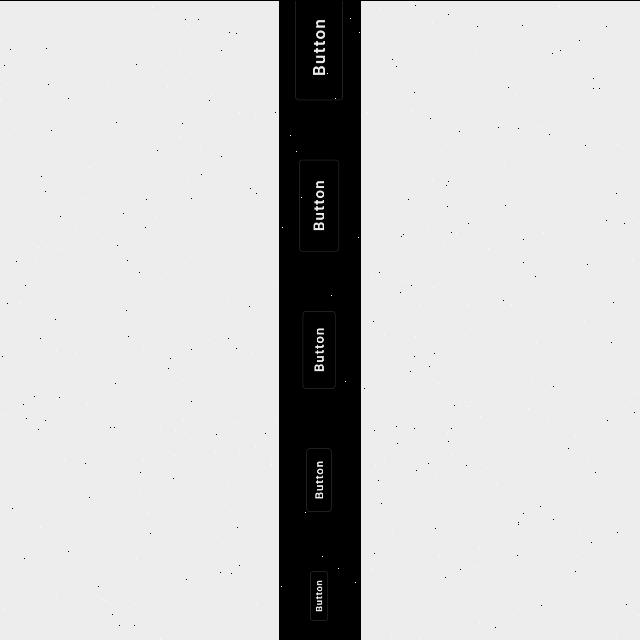QLabel: (312, 18, 326, 78), (313, 178, 325, 232), (314, 326, 324, 374), (316, 459, 324, 499), (315, 577, 323, 613)
VBtn: (294, 0, 344, 100), (298, 157, 340, 251), (301, 308, 337, 389), (304, 446, 334, 512), (308, 569, 329, 621)
